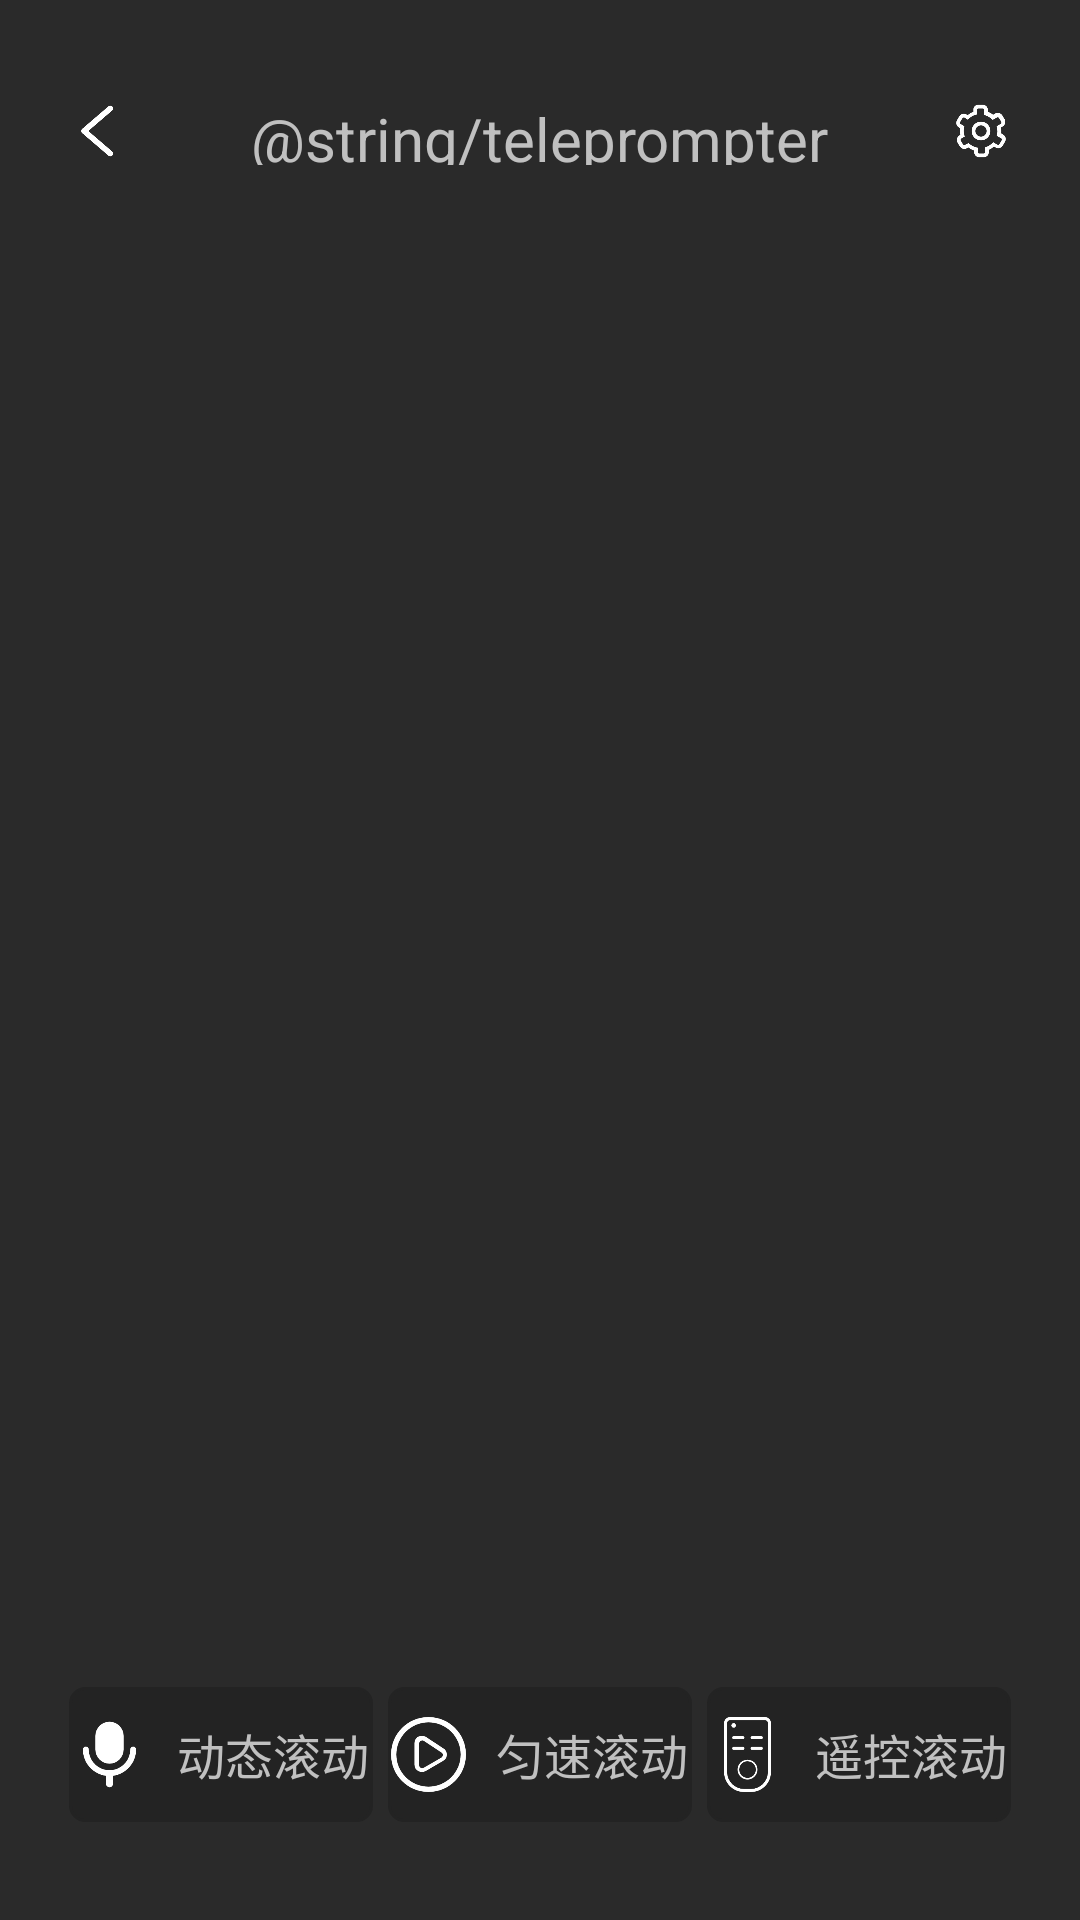

Icon bounding boxes for this 1080 × 1920 phone screenshot, format (x1=x1, y1=y1, x2=x2, y2=y2):
continue: (x1=391, y1=1717, x2=466, y2=1792)
left: (x1=81, y1=106, x2=113, y2=157)
mic on: (x1=83, y1=1721, x2=136, y2=1788)
remote on: (x1=724, y1=1717, x2=771, y2=1792)
teleprompter display settings: (x1=956, y1=105, x2=1006, y2=157)
